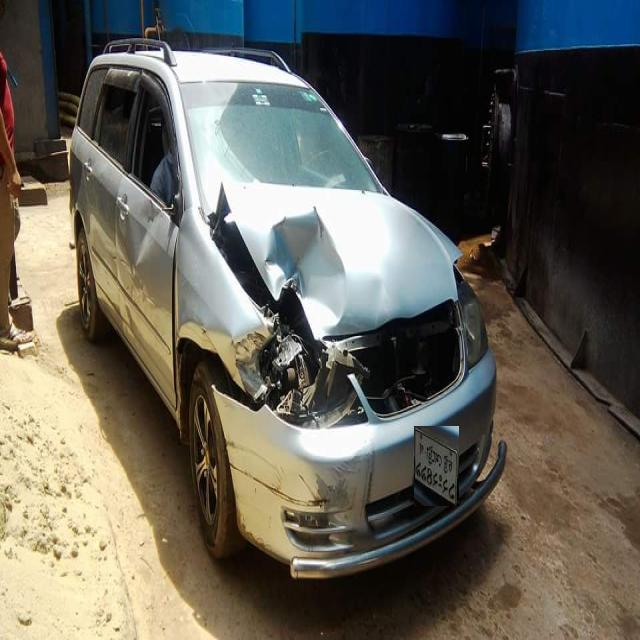numberplate: (414, 426, 459, 506)
